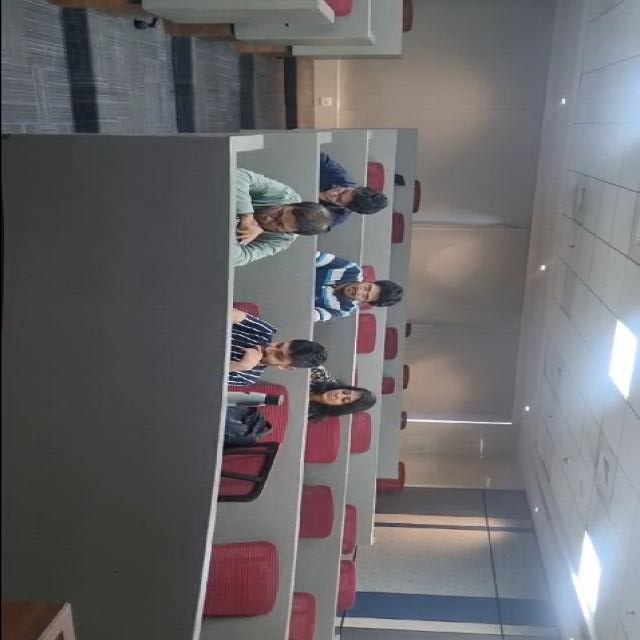cheating: (306, 319, 386, 414)
non-cheating: (182, 314, 255, 412), (252, 234, 324, 324), (159, 242, 222, 324), (360, 262, 428, 334)
